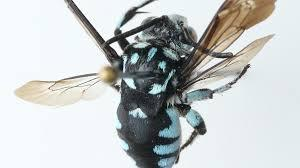Thyreus: (50, 0, 265, 168)
